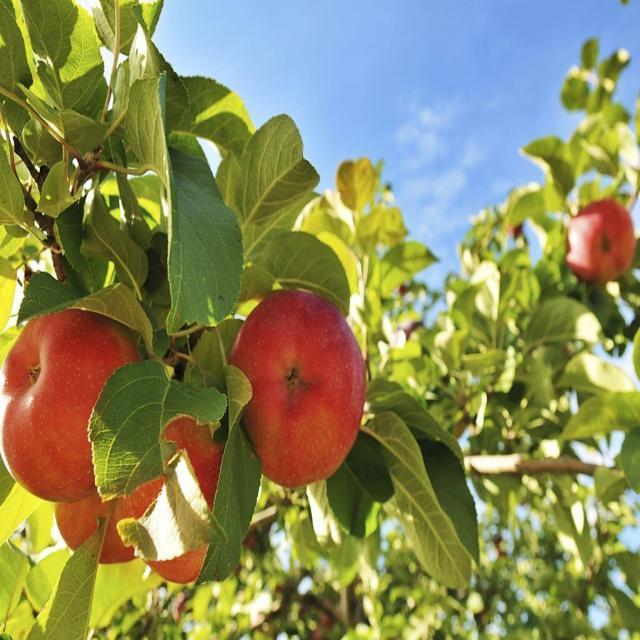Red Apple: (6, 314, 164, 494), (232, 290, 370, 489), (136, 398, 244, 588), (50, 448, 167, 583), (564, 202, 635, 283)
